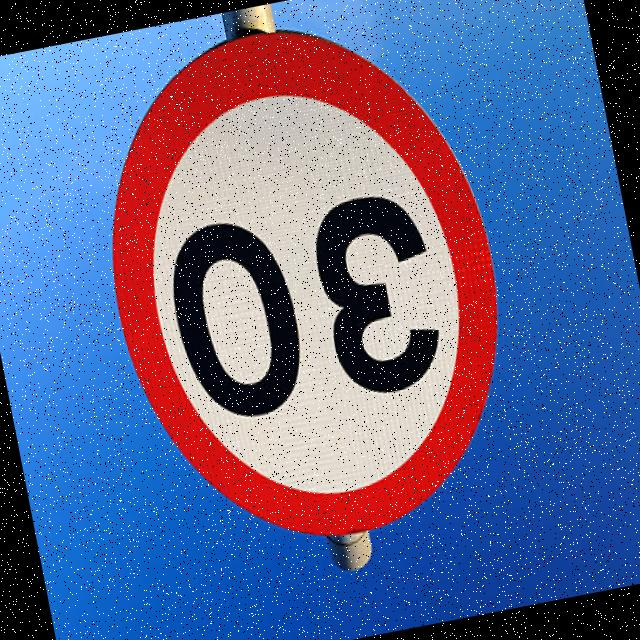speed_limit_30: (65, 0, 550, 583)
